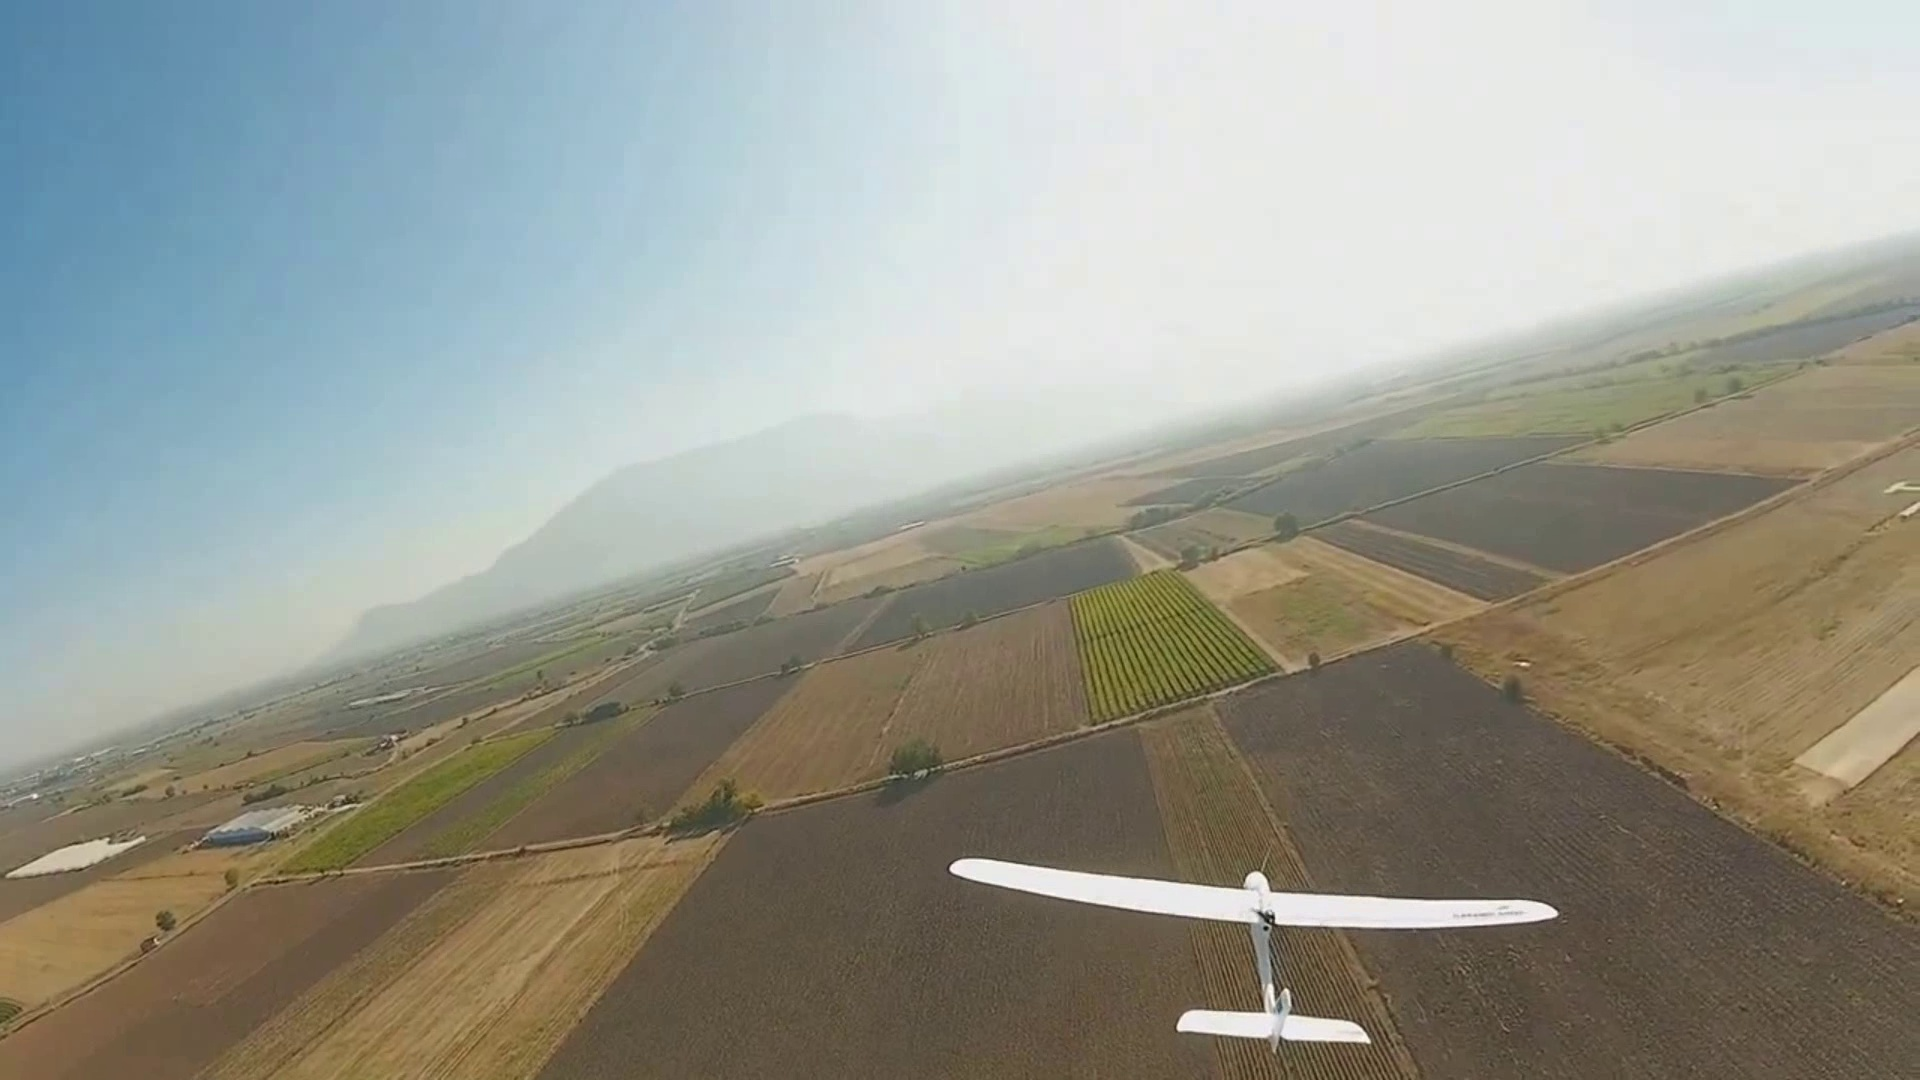airplane: (949, 856, 1556, 1036)
